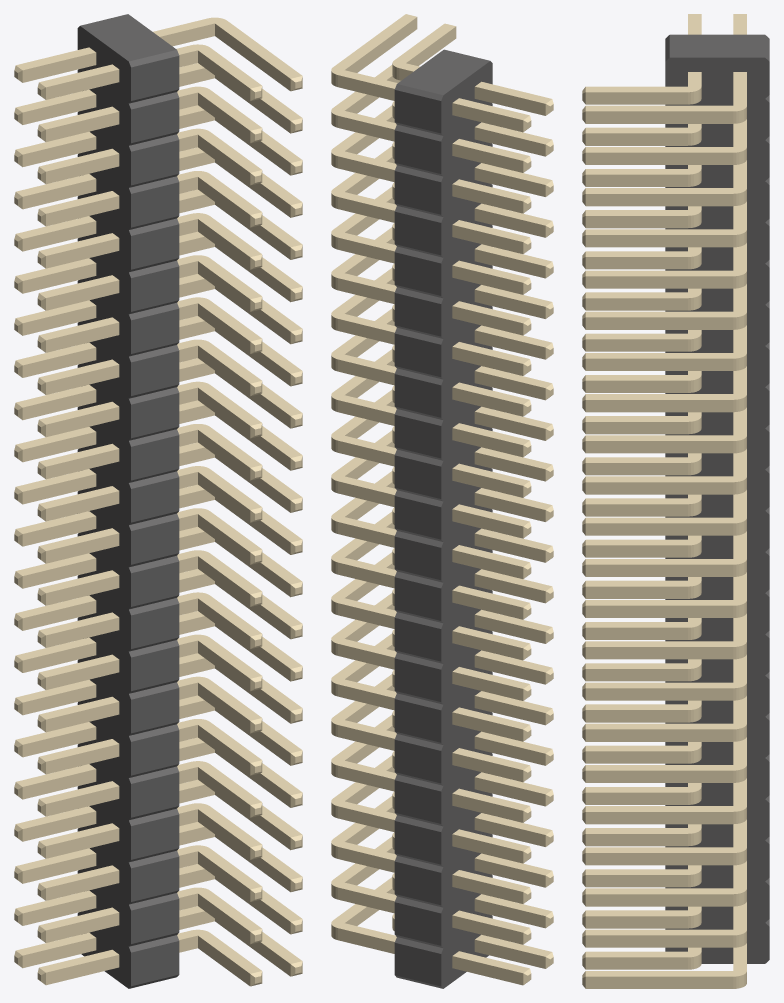
File: PinHeader_2x22_P1.00mm_Horizontal.glb
3 renders of one model, left to right at view 1: azimuth 30°, elevation 25°; view 2: azimuth 150°, elevation 25°; view 3: azimuth 270°, elevation 25°, orthographic. The views are drawn at different scales.
Parts seen in each view (by area): view 1: Shape_IndexedFaceSet.004, Shape_IndexedFaceSet.001, Shape_IndexedFaceSet.010, Shape_IndexedFaceSet.028, Shape_IndexedFaceSet.058, Shape_IndexedFaceSet.070, Shape_IndexedFaceSet.106, Shape_IndexedFaceSet.016, Shape_IndexedFaceSet.088, Shape_IndexedFaceSet.094, Shape_IndexedFaceSet.100, Shape_IndexedFaceSet.112 (+103 smaller); view 2: Shape_IndexedFaceSet.004, Shape_IndexedFaceSet.001, Shape_IndexedFaceSet.049, Shape_IndexedFaceSet.019, Shape_IndexedFaceSet.025, Shape_IndexedFaceSet.037, Shape_IndexedFaceSet.061, Shape_IndexedFaceSet.073, Shape_IndexedFaceSet.079, Shape_IndexedFaceSet.091, Shape_IndexedFaceSet.097, Shape_IndexedFaceSet.121 (+147 smaller); view 3: Shape_IndexedFaceSet.003, Shape_IndexedFaceSet.001, Shape_IndexedFaceSet.519, Shape_IndexedFaceSet.524, Shape_IndexedFaceSet.564, Shape_IndexedFaceSet.570, Shape_IndexedFaceSet.590, Shape_IndexedFaceSet.634, Shape_IndexedFaceSet.645, Shape_IndexedFaceSet.669, Shape_IndexedFaceSet.684, Shape_IndexedFaceSet.509 (+78 smaller).
Part boxes in pixels (x1=…): Shape_IndexedFaceSet.004: x1=77, y1=26, x2=130, y2=988; Shape_IndexedFaceSet.001: x1=80, y1=14, x2=176, y2=61; Shape_IndexedFaceSet.010: x1=131, y1=98, x2=179, y2=143; Shape_IndexedFaceSet.028: x1=131, y1=224, x2=179, y2=269; Shape_IndexedFaceSet.058: x1=131, y1=435, x2=179, y2=480; Shape_IndexedFaceSet.070: x1=131, y1=519, x2=179, y2=564; Shape_IndexedFaceSet.106: x1=131, y1=772, x2=179, y2=817; Shape_IndexedFaceSet.016: x1=131, y1=140, x2=179, y2=185; Shape_IndexedFaceSet.088: x1=131, y1=646, x2=179, y2=691; Shape_IndexedFaceSet.094: x1=131, y1=688, x2=179, y2=733; Shape_IndexedFaceSet.100: x1=131, y1=730, x2=179, y2=775; Shape_IndexedFaceSet.112: x1=131, y1=814, x2=179, y2=859; Shape_IndexedFaceSet.004: x1=441, y1=61, x2=492, y2=988; Shape_IndexedFaceSet.001: x1=397, y1=49, x2=489, y2=95; Shape_IndexedFaceSet.049: x1=394, y1=374, x2=441, y2=417; Shape_IndexedFaceSet.019: x1=394, y1=171, x2=441, y2=214; Shape_IndexedFaceSet.025: x1=394, y1=211, x2=441, y2=255; Shape_IndexedFaceSet.037: x1=394, y1=293, x2=441, y2=336; Shape_IndexedFaceSet.061: x1=394, y1=455, x2=441, y2=498; Shape_IndexedFaceSet.073: x1=394, y1=536, x2=441, y2=580; Shape_IndexedFaceSet.079: x1=394, y1=577, x2=441, y2=620; Shape_IndexedFaceSet.091: x1=394, y1=658, x2=441, y2=701; Shape_IndexedFaceSet.097: x1=394, y1=699, x2=441, y2=742; Shape_IndexedFaceSet.121: x1=394, y1=861, x2=441, y2=905; Shape_IndexedFaceSet.003: x1=665, y1=57, x2=769, y2=963; Shape_IndexedFaceSet.001: x1=669, y1=34, x2=765, y2=57; Shape_IndexedFaceSet.519: x1=585, y1=482, x2=733, y2=494; Shape_IndexedFaceSet.524: x1=585, y1=523, x2=733, y2=535; Shape_IndexedFaceSet.564: x1=585, y1=729, x2=733, y2=741; Shape_IndexedFaceSet.570: x1=585, y1=688, x2=733, y2=700; Shape_IndexedFaceSet.590: x1=585, y1=111, x2=733, y2=123; Shape_IndexedFaceSet.634: x1=585, y1=317, x2=733, y2=329; Shape_IndexedFaceSet.645: x1=585, y1=276, x2=733, y2=288; Shape_IndexedFaceSet.669: x1=585, y1=935, x2=733, y2=947; Shape_IndexedFaceSet.684: x1=585, y1=894, x2=733, y2=906; Shape_IndexedFaceSet.509: x1=585, y1=400, x2=733, y2=412.
Size of the model in its own units: 2.03 by 8.66 by 1.62.
